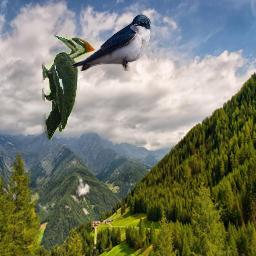Swallow: (70, 14, 151, 71)
Woodpecker: (42, 35, 95, 140)
